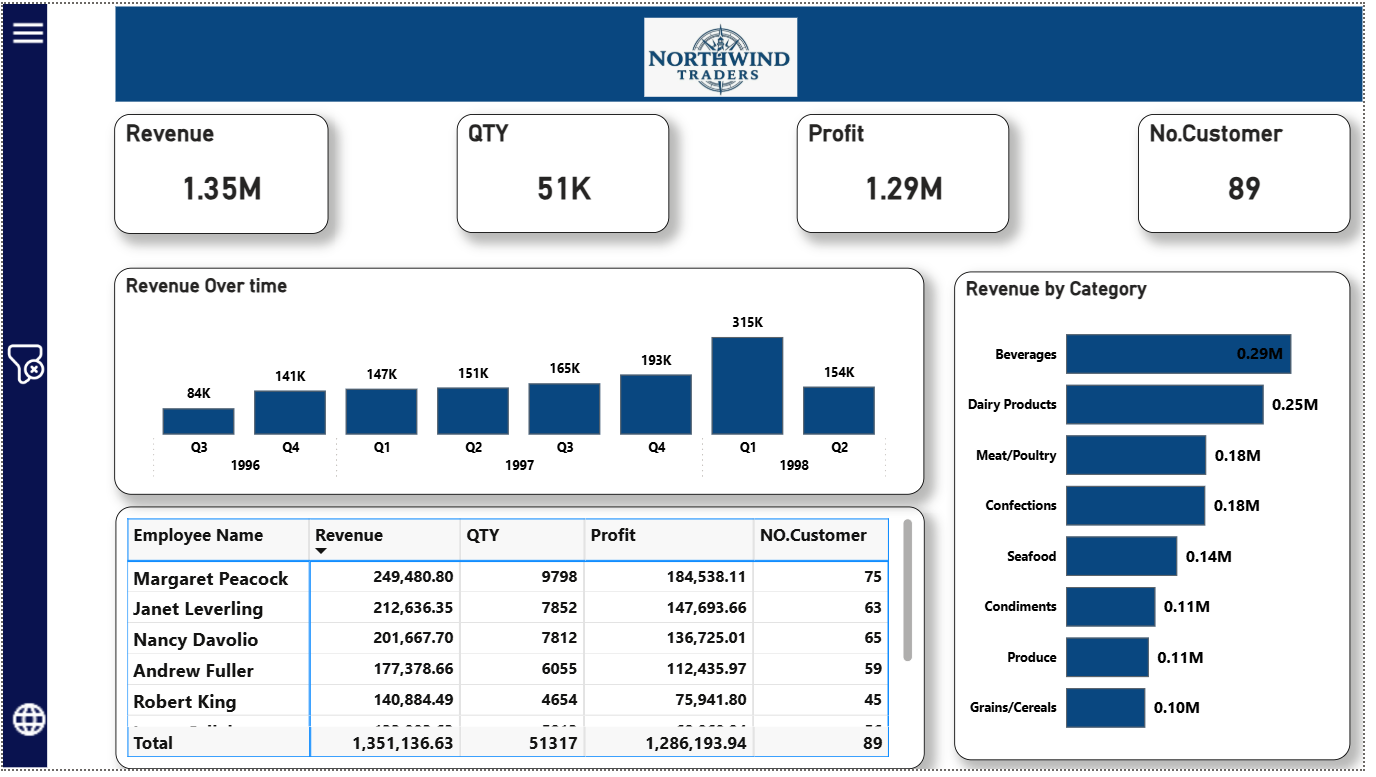

What the dashboard file says about the page in this screenshot:
{"tool":"powerbi","page":{"name":"Revenue ","canvas":[1280,720],"ordinal":0},"visuals":[{"type":"shape","box":[105.7,2.9,1173.7,89.6],"z":0,"group":"g1"},{"type":"pivotTable","fields":{"Rows":["DimEmployee.Full Name"],"Values":["Metrics.Revenue","Metrics.Profit","Metrics.QTY","Metrics.NO.Customer"]},"box":[106.2,472.5,761.2,247.5],"z":0},{"type":"shape","title":"Side bar","box":[0,0,41.6,718.6],"z":1000},{"type":"image","box":[261.4,13.6,828.7,74.4],"z":1000,"group":"g1"},{"type":"image","title":"Clear Filter","box":[0,307.2,41.6,64.1],"z":1000,"group":"g2"},{"type":"actionButton","title":"Menu bar(button) ","box":[1.7,0,45,55.4],"z":2000,"group":"g2"},{"type":"card","title":"Revenue","fields":{"Values":["Metrics.Revenue"]},"box":[105,103.8,201.2,112.5],"z":2000},{"type":"card","title":"QTY","fields":{"Values":["Metrics.QTY"]},"box":[426.6,103.8,200.3,112.2],"z":3000},{"type":"card","title":"Profit","fields":{"Values":["Metrics.Profit"]},"box":[747.1,103.8,200.3,112.2],"z":4000},{"type":"card","title":"No.Customer ","fields":{"Values":["Metrics.NO.Customer"]},"box":[1067.7,103.8,200.3,112.2],"z":5000},{"type":"clusteredBarChart","title":"Revenue by Category","fields":{"Y":["Metrics.Revenue"],"Category":["DimProduct.CategoryName","DimProduct.ProductName"]},"box":[895,251.2,372.5,460],"z":6000},{"type":"columnChart","title":"Revenue  Over time ","fields":{"Y":["Metrics.Revenue"],"Category":["date.year Hierarchy.year","date.year Hierarchy.Quarter Name"]},"box":[105,248.8,762.5,213.8],"z":7000},{"type":"group","id":"g1","title":"Headear","box":[105.7,2.9,1174.3,90],"z":8000},{"type":"group","id":"g2","title":"Side bar Button","box":[0,0,46.8,371.3],"z":9000},{"type":"actionButton","title":"linkden (Button)","box":[1.8,647.3,44.7,52.1],"z":9500}]}

Visuals, with their boxes in screenshot pixels (x1, y1, x2, y2):
shape: <box>112,3,1356,98</box>
pivotTable - DimEmployee.Full Name x Metrics.Revenue: <box>113,501,920,763</box>
"Side bar" shape: <box>0,0,44,762</box>
image: <box>277,14,1156,93</box>
"Clear Filter" image: <box>0,326,44,394</box>
"Menu bar(button) " actionButton: <box>2,0,50,59</box>
"Revenue" card: <box>111,110,325,229</box>
"QTY" card: <box>452,110,665,229</box>
"Profit" card: <box>792,110,1004,229</box>
"No.Customer " card: <box>1132,110,1344,229</box>
"Revenue by Category" clusteredBarChart: <box>949,266,1344,754</box>
"Revenue  Over time " columnChart: <box>111,264,920,490</box>
"Headear" group: <box>112,3,1357,98</box>
"Side bar Button" group: <box>0,0,50,394</box>
"linkden (Button)" actionButton: <box>2,686,49,741</box>
